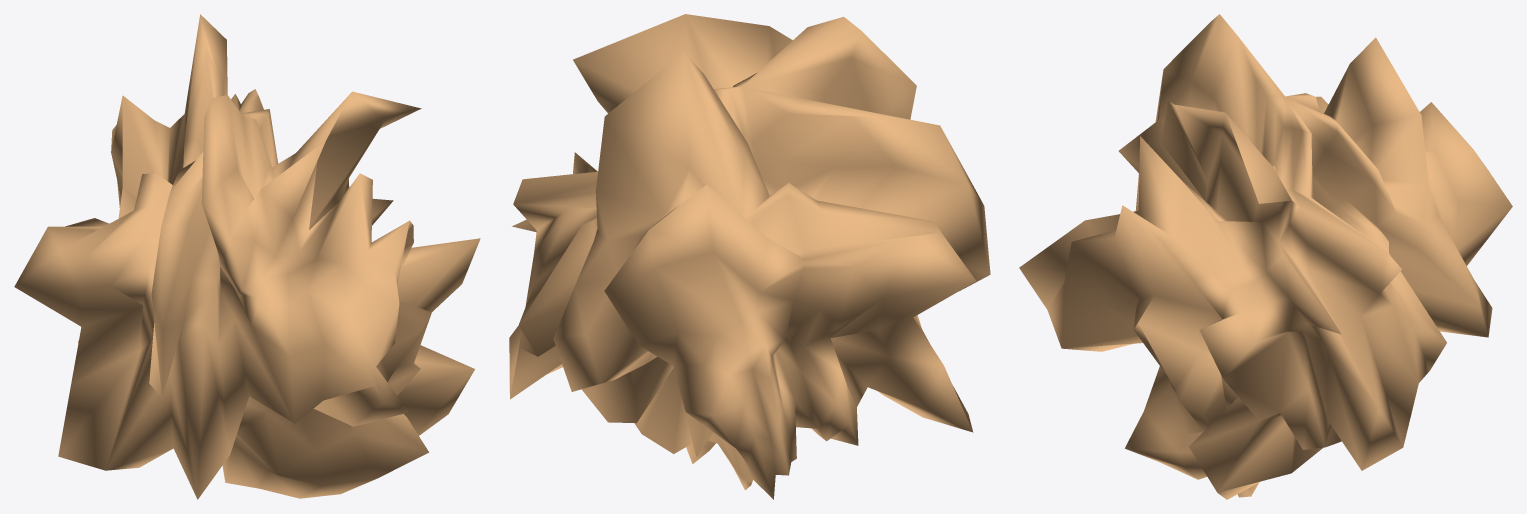
File: Paper2.fbx
The picture shows the model from 3 angles, left to right: view 1: azimuth 30°, elevation 25°; view 2: azimuth 150°, elevation 25°; view 3: azimuth 270°, elevation 25°; orthographic projection. The views are drawn at different scales.
Parts seen in each view (by area): view 1: Sphere; view 2: Sphere; view 3: Sphere.
Part boxes in pixels (x1,y1,x2,y2): Sphere: (14,14,480,499); Sphere: (509,14,990,499); Sphere: (1019,14,1512,499).
Bounding box in the file's own units: 103 × 104 × 107.
